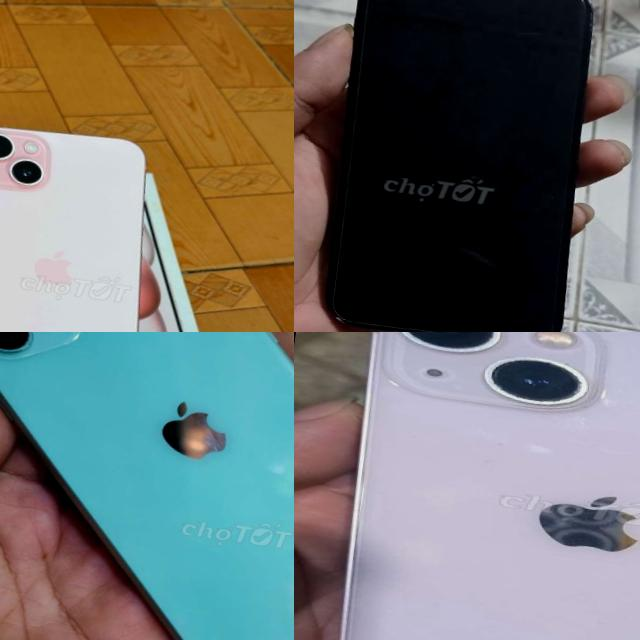gen_11: (0, 332, 294, 640)
gen_12_13: (297, 332, 640, 640), (311, 0, 615, 332)
gen_15: (0, 111, 178, 332)
